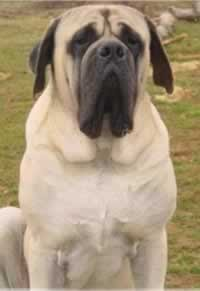mastiff: (0, 3, 177, 291)
